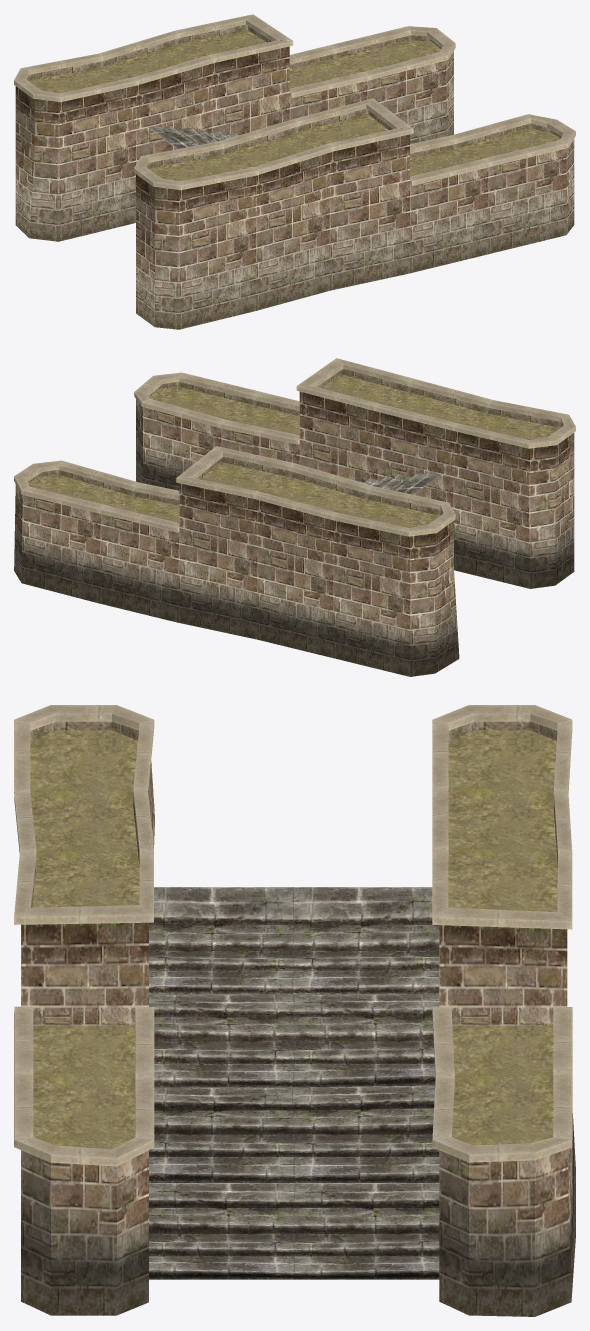
3 renders of one model, top to bottom at view 1: azimuth 30°, elevation 25°; view 2: azimuth 150°, elevation 25°; view 3: azimuth 270°, elevation 25°, orthographic. The views are drawn at different scales.
Visible parts, largest first — view 1: OM_09_sn_T03st01B; view 2: OM_09_sn_T03st01B; view 3: OM_09_sn_T03st01B.
Part boxes in pixels (left/top/right/bottom): OM_09_sn_T03st01B: left=14, top=14, right=575, bottom=329; OM_09_sn_T03st01B: left=14, top=358, right=575, bottom=676; OM_09_sn_T03st01B: left=14, top=705, right=575, bottom=1316.
Bounding box in the file's own units: 9.94 × 3.29 × 6.52.
3 materials, 3 textured.
